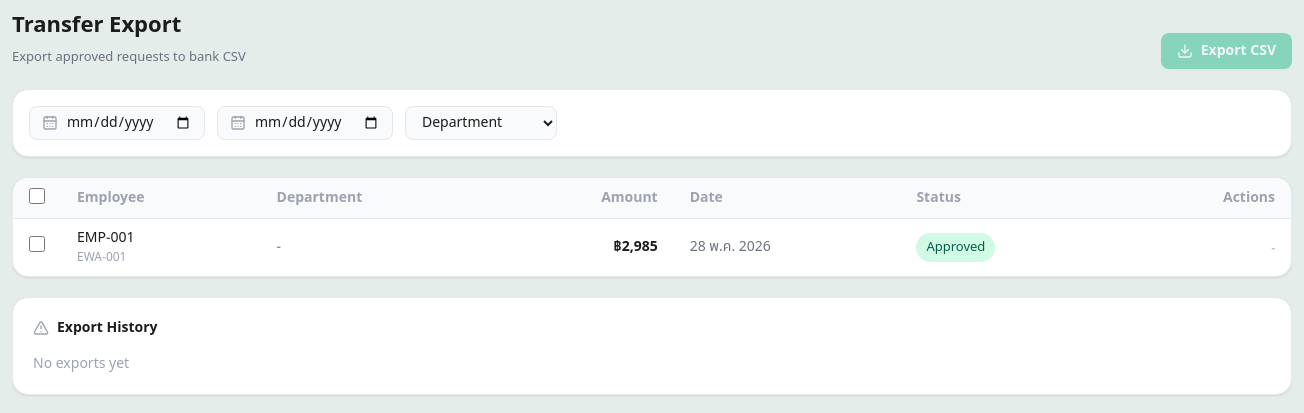
Test: TransferExportPage › enables Export CSV button when a row is selected
Click the checkbox named "Select EMP-001" at (37,244), box [29,236,45,252]
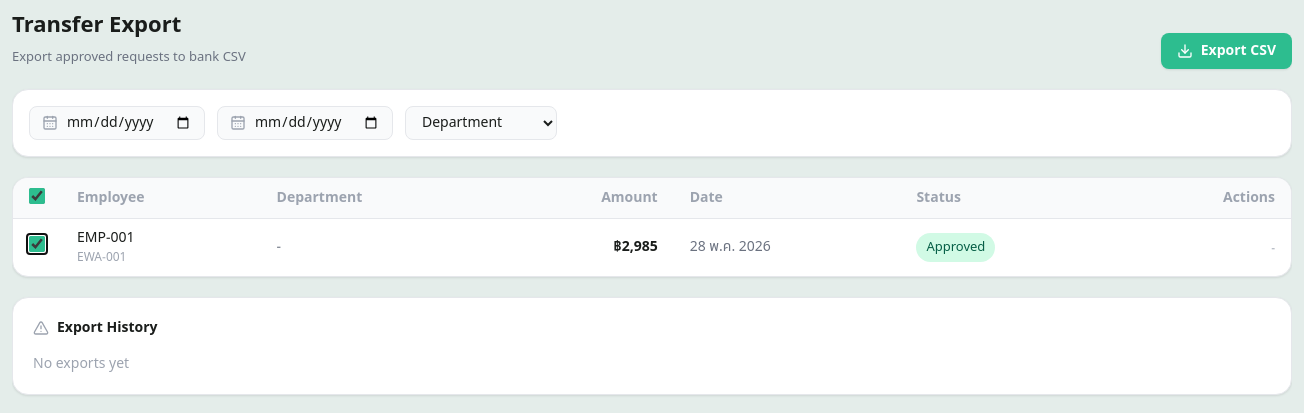
Result: the button "Export CSV" is enabled at [1161,33,1292,69]
